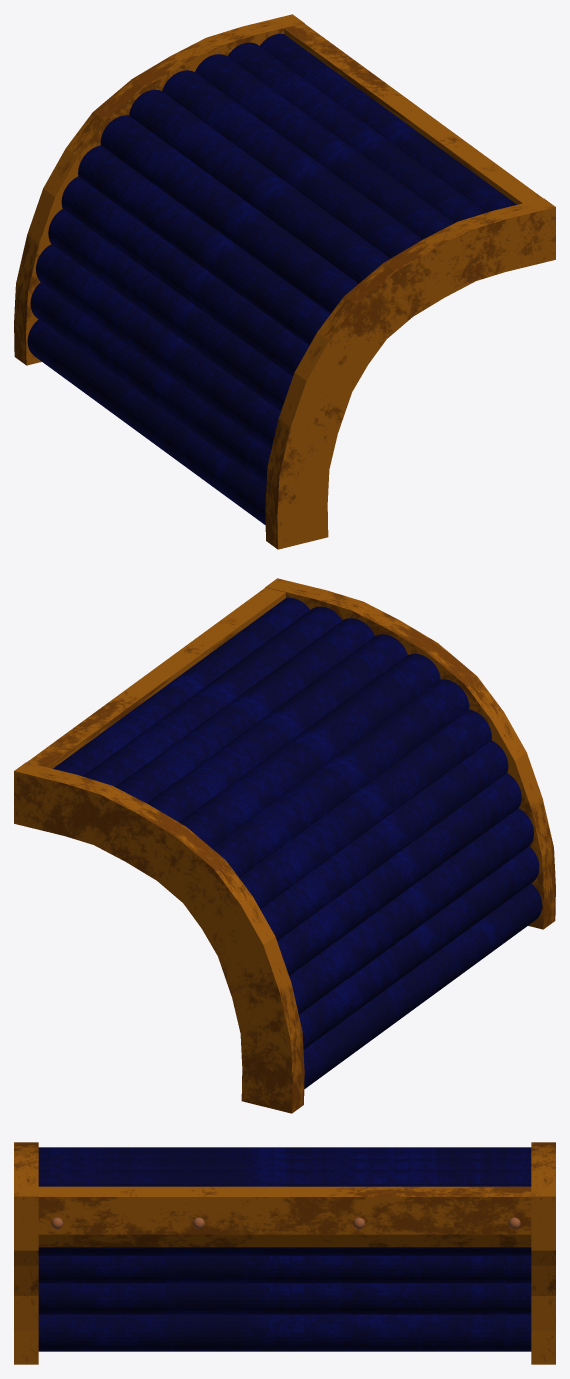
Rendered from Final_Cubicle roof.glb.
3 views of the same model, one above another, from view 1: azimuth 30°, elevation 25°; view 2: azimuth 150°, elevation 25°; view 3: azimuth 270°, elevation 25° (orthographic). The views are drawn at different scales.
Parts seen in each view (by area): view 1: Cube.001, Circle.005, Circle.006, Circle.004, Circle.001, Circle.003, Circle.002, Circle.007, Cube.002, Circle.011, Circle.008, Circle (+3 smaller); view 2: Cube.002, Circle.005, Circle.006, Circle.004, Circle.001, Circle.003, Circle.002, Circle.007, Cube.001, Circle.011, Circle.008, Circle (+3 smaller); view 3: Cube.004, Circle.011, Circle, Circle.001, Circle.009, Circle.008, Cube.001, Cube.002, Circle.002, Circle.007, Circle.006, Circle.010.
Part boxes in pixels (box(x1,y1,x2,y2)): Cube.001: box(265, 198, 555, 549); Circle.005: box(100, 115, 358, 313); Circle.006: box(129, 89, 390, 283); Circle.004: box(78, 145, 330, 345); Circle.001: box(36, 244, 280, 450); Circle.003: box(61, 176, 309, 376); Circle.002: box(48, 209, 292, 411); Circle.007: box(162, 70, 422, 258); Cube.002: box(14, 14, 304, 365); Circle.011: box(27, 319, 266, 524); Circle.008: box(195, 54, 454, 239); Circle: box(30, 282, 270, 485); Cube.002: box(14, 762, 304, 1113); Circle.005: box(211, 679, 469, 877); Circle.006: box(179, 653, 440, 847); Circle.004: box(239, 709, 491, 909); Circle.001: box(289, 808, 533, 1014); Circle.003: box(260, 740, 508, 940); Circle.002: box(277, 773, 521, 975); Circle.007: box(147, 634, 407, 822); Cube.001: box(265, 578, 555, 929); Circle.011: box(303, 883, 542, 1088); Circle.008: box(115, 618, 374, 803); Circle: box(299, 846, 539, 1049); Cube.004: box(38, 1186, 531, 1247); Circle.011: box(38, 1314, 531, 1351); Circle: box(38, 1283, 531, 1314); Circle.001: box(38, 1256, 531, 1283); Circle.009: box(38, 1169, 531, 1183); Circle.008: box(38, 1158, 531, 1169); Cube.001: box(14, 1142, 38, 1364); Cube.002: box(531, 1142, 555, 1364); Circle.002: box(38, 1247, 531, 1255); Circle.007: box(38, 1151, 531, 1158); Circle.006: box(38, 1147, 531, 1151); Circle.010: box(38, 1184, 531, 1186).
Bounding box in the file's own units: 9.84 × 9.11 × 15.84.
6 materials, 6 textured.
